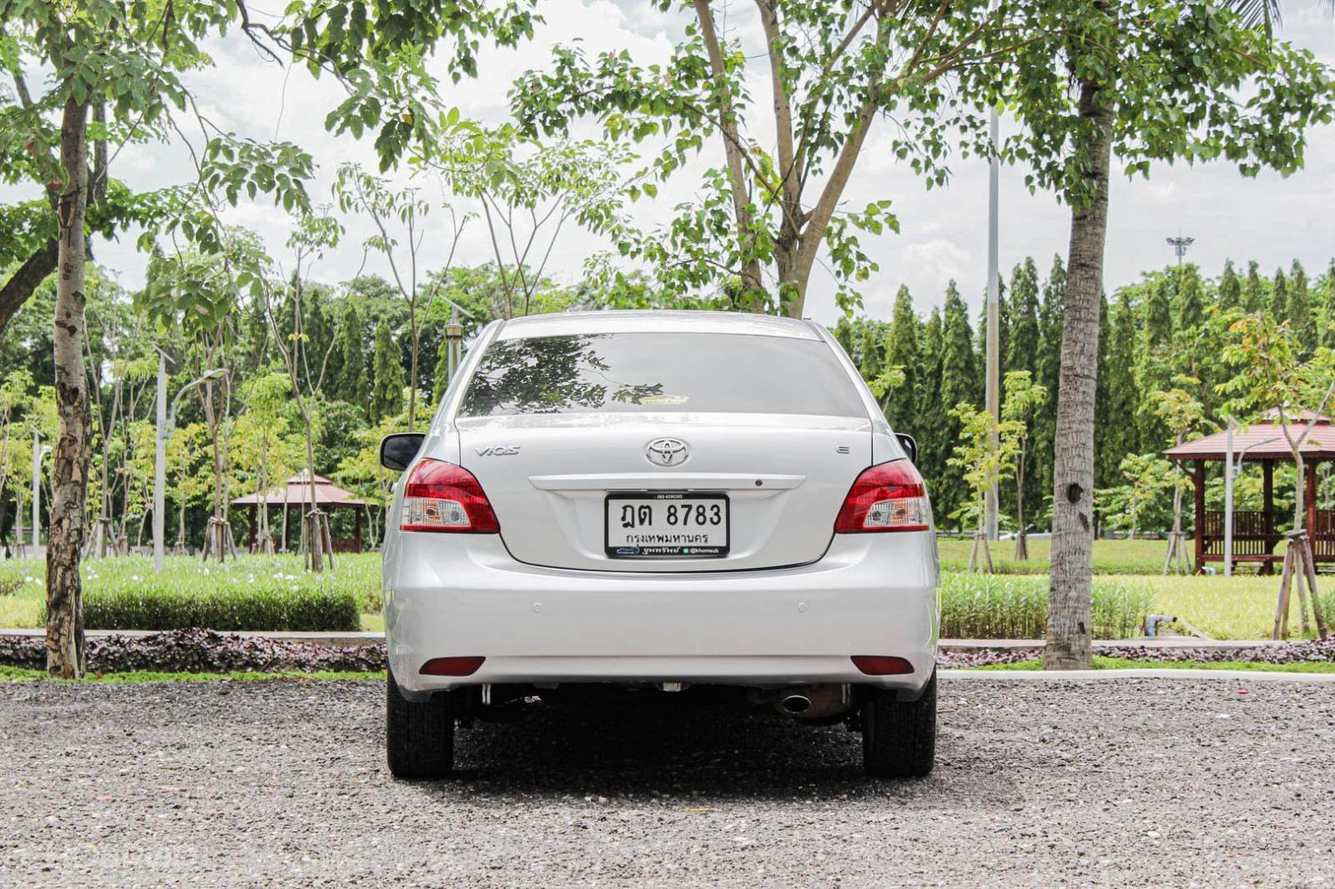license-plate: (604, 491, 732, 560)
